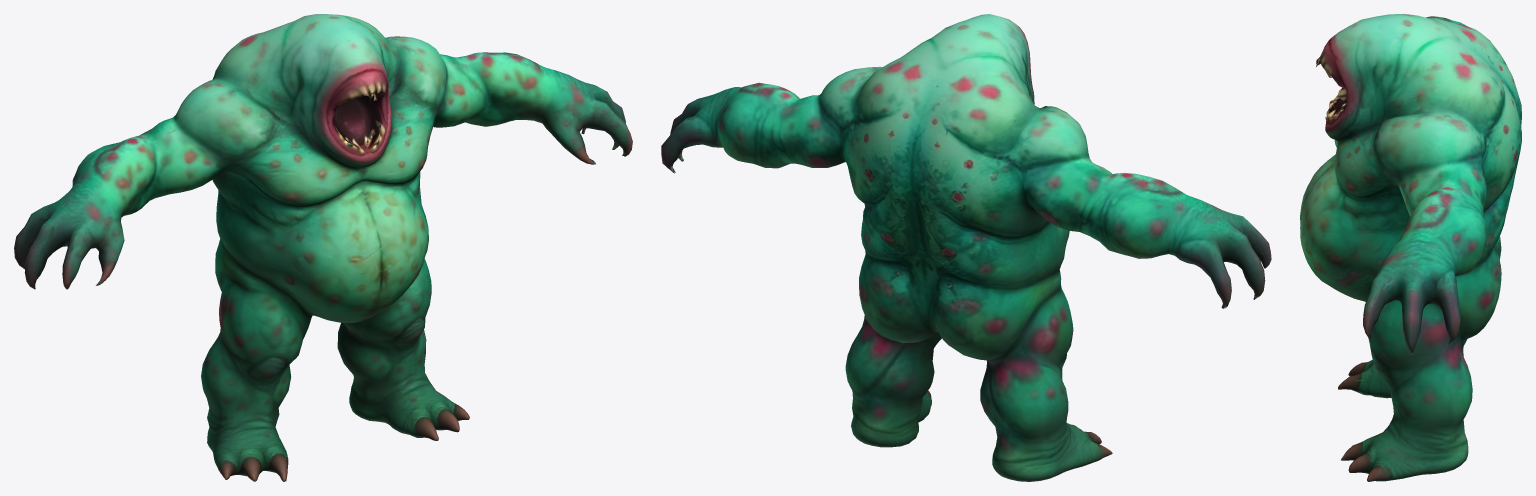
Rendered from Gargantua_Beast_0124124433_texture.fbx.
The picture shows the model from 3 angles, left to right: view 1: azimuth 30°, elevation 25°; view 2: azimuth 150°, elevation 25°; view 3: azimuth 270°, elevation 25°; orthographic projection. The views are drawn at different scales.
Visible parts, largest first — view 1: Mesh0; view 2: Mesh0; view 3: Mesh0.
Boxes of the visible parts, bbox=[...] form: Mesh0: bbox=[14, 14, 632, 481]; Mesh0: bbox=[661, 14, 1271, 481]; Mesh0: bbox=[1300, 14, 1521, 481].
Size of the model in its own units: 191 by 127 by 62.57.
Materials: 1 (1 with a texture image).
